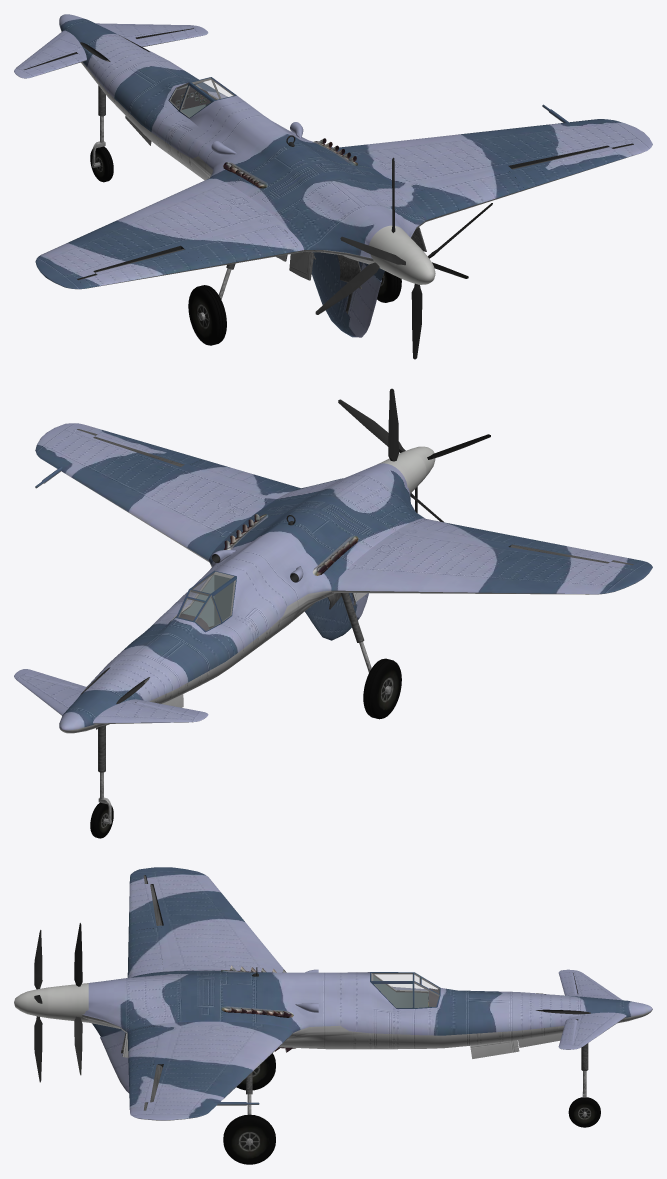
The model's file is hsp75.glb.
The picture shows the model from 3 angles, top to bottom: view 1: azimuth 30°, elevation 25°; view 2: azimuth 150°, elevation 25°; view 3: azimuth 270°, elevation 25°; orthographic projection. The views are drawn at different scales.
Visible parts, largest first — view 1: Object_13, Object_18, Object_3; view 2: Object_13, Object_3, Object_18; view 3: Object_13, Object_18, Object_3.
Boxes of the visible parts, x1,y1,x2,y2 form: Object_13: (14, 14, 652, 359); Object_18: (170, 78, 232, 116); Object_3: (169, 78, 234, 117); Object_13: (14, 388, 652, 838); Object_3: (171, 571, 235, 630); Object_18: (179, 572, 235, 629); Object_13: (14, 867, 652, 1164); Object_18: (372, 973, 438, 1007); Object_3: (371, 973, 439, 1007).
Size of the model in its own units: 8.52 by 3.21 by 9.1.
Materials: 14 (12 with a texture image).
